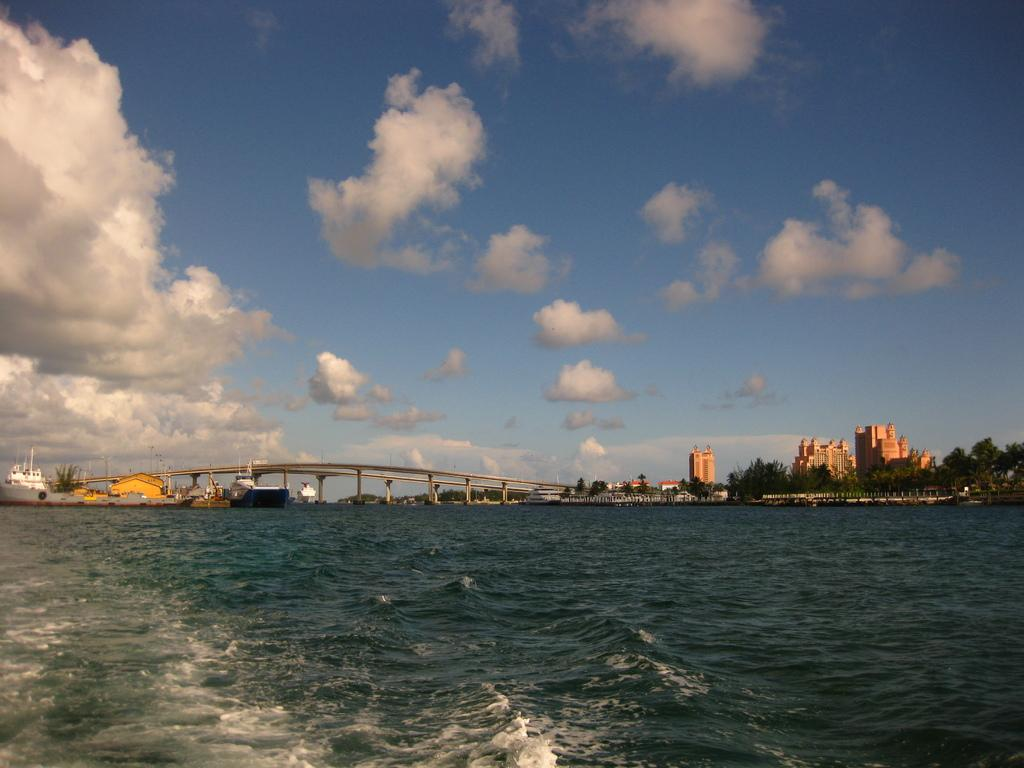PassengerShip: (516, 485, 564, 507)
